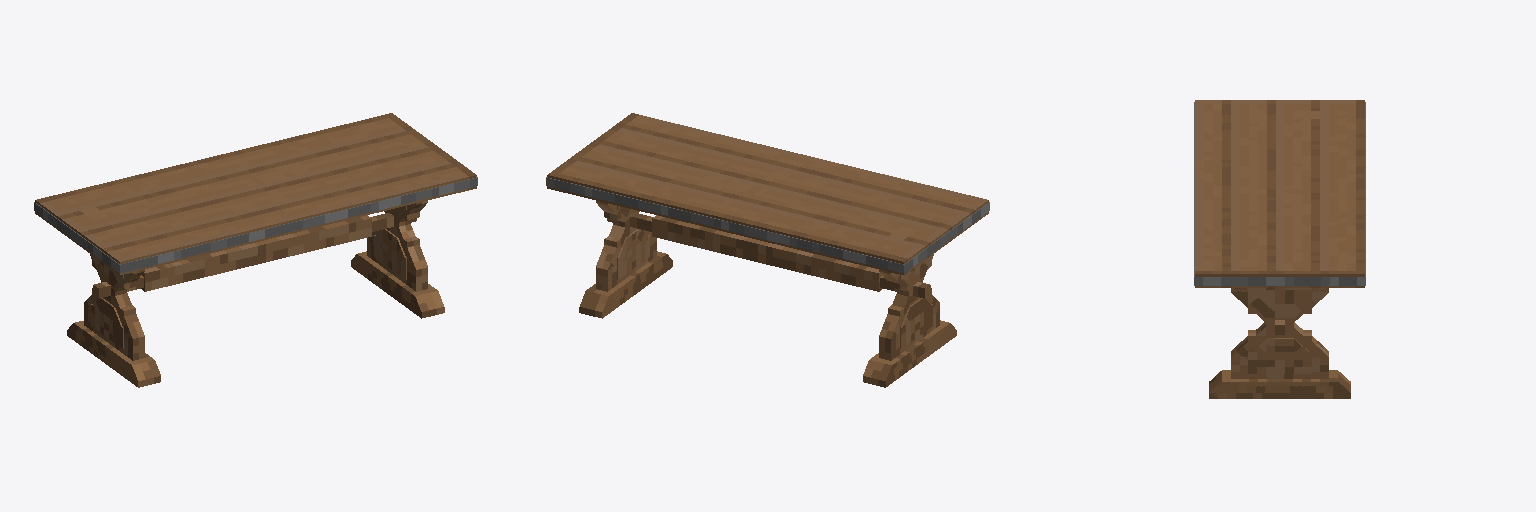
3 renders of one model, left to right at view 1: azimuth 30°, elevation 25°; view 2: azimuth 150°, elevation 25°; view 3: azimuth 270°, elevation 25°, orthographic.
Visible parts, largest first — view 1: cube; view 2: cube; view 3: cube.
Part boxes in pixels (x1,y1,x2,y2): cube: (34, 113, 477, 387); cube: (546, 113, 989, 387); cube: (1194, 100, 1365, 398).
Bounding box in the file's own units: 2.92 × 1.07 × 1.21.
Materials: 1 (1 with a texture image).